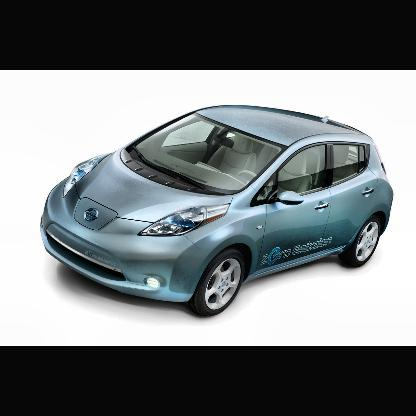Nissan Leaf Hatchback 2012: (40, 104, 394, 318)
